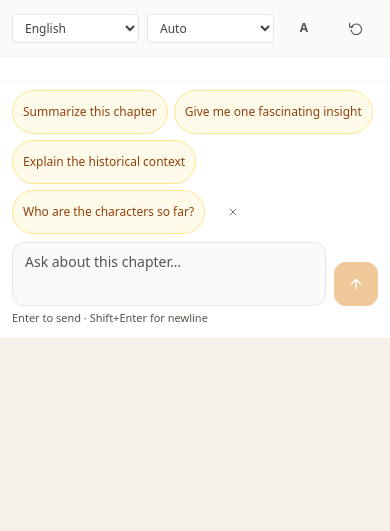
Scenario: InsightChat — loading state during send (lines 254, 262-311) › send button is disabled while loading
Type "Loading test?" into the text box at coordinates (169, 274), box [12, 242, 326, 306]
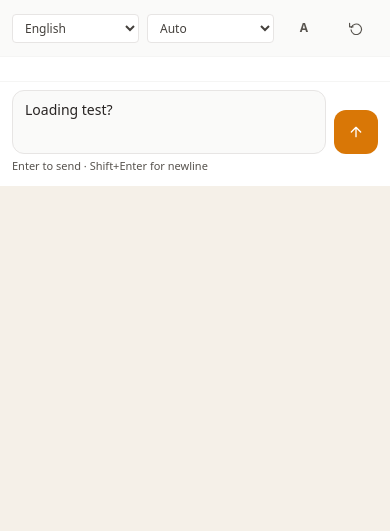
Press Enter in the text box, box [12, 90, 326, 154]
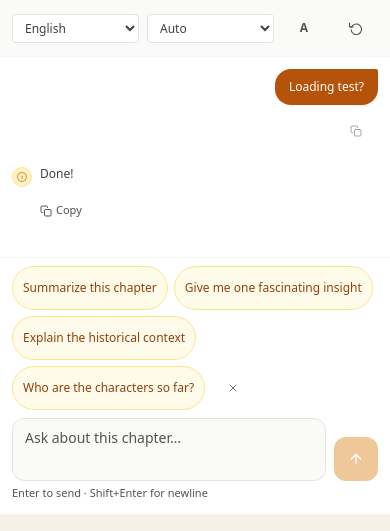
Now the button titled "Send (Enter)" is disabled, box [334, 437, 378, 481]
